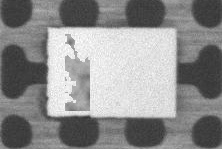DIE_INK: (97, 23, 134, 75)
